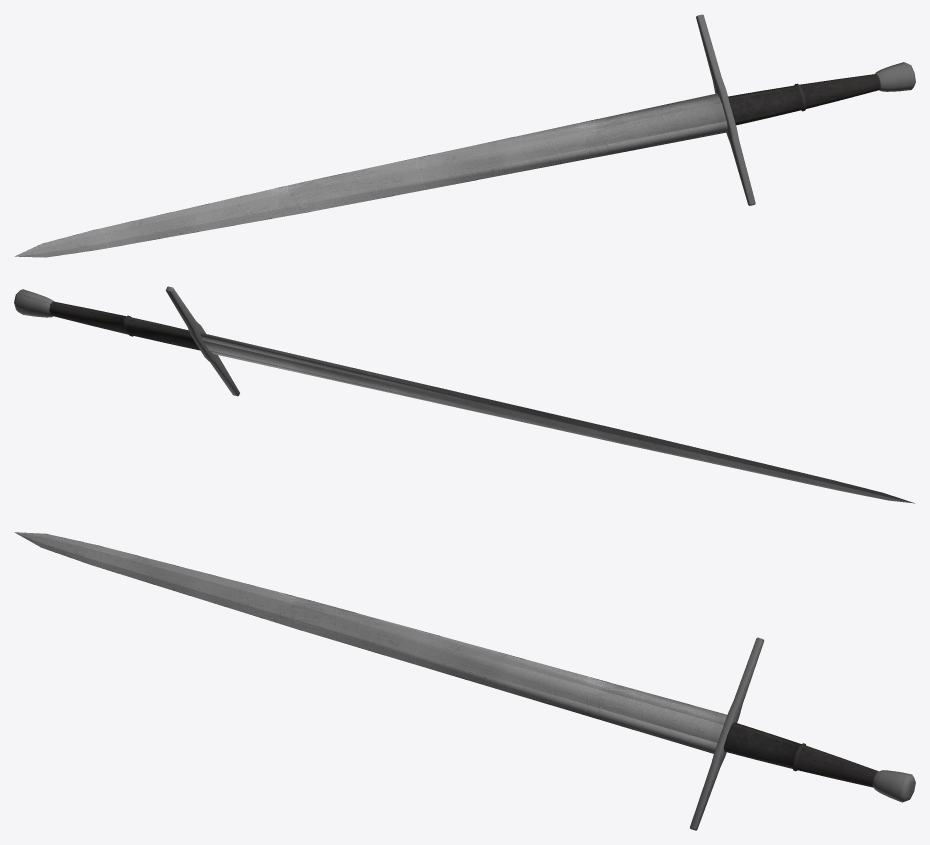
File: wp_longsword.glb
3 views of the same model, one above another, from view 1: azimuth 30°, elevation 25°; view 2: azimuth 150°, elevation 25°; view 3: azimuth 330°, elevation 25° (orthographic). The views are drawn at different scales.
Parts seen in each view (by area): view 1: arms.002; view 2: arms.002; view 3: arms.002.
Boxes of the visible parts, box(x1,y1,x2,y2) form: arms.002: box(14, 14, 915, 257); arms.002: box(14, 286, 914, 503); arms.002: box(14, 532, 915, 830).
Bounding box in the file's own units: 5.54 × 0.8751 × 0.6573.
1 material, 1 textured.
